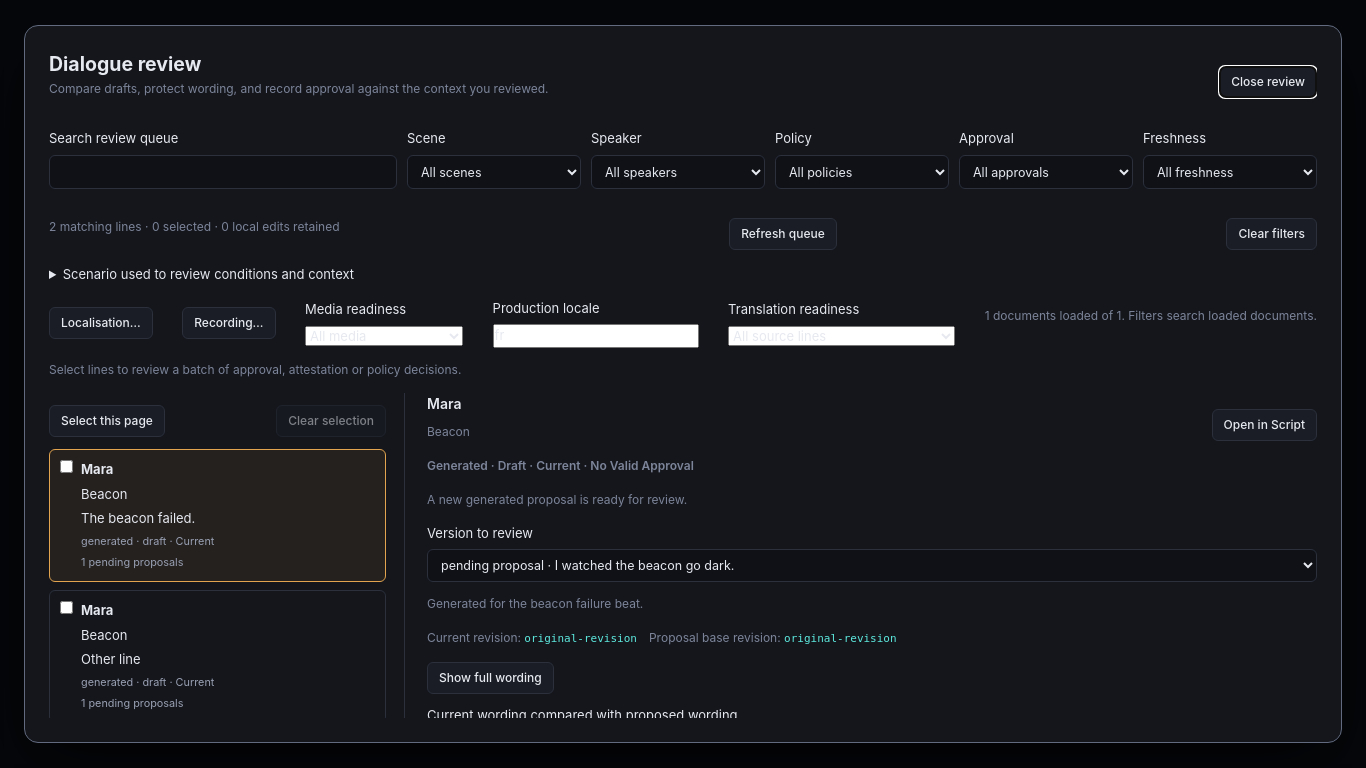
Test: filters actual Review rows by recording readiness and opens the recording workflow
The image size is (1366, 768).
Check: the text "Other line" is shown, box [81,651,141,667]
Select "Missing recording" in the dropdown labelled "Media readiness" at (384, 336), box [305,326,463,346]
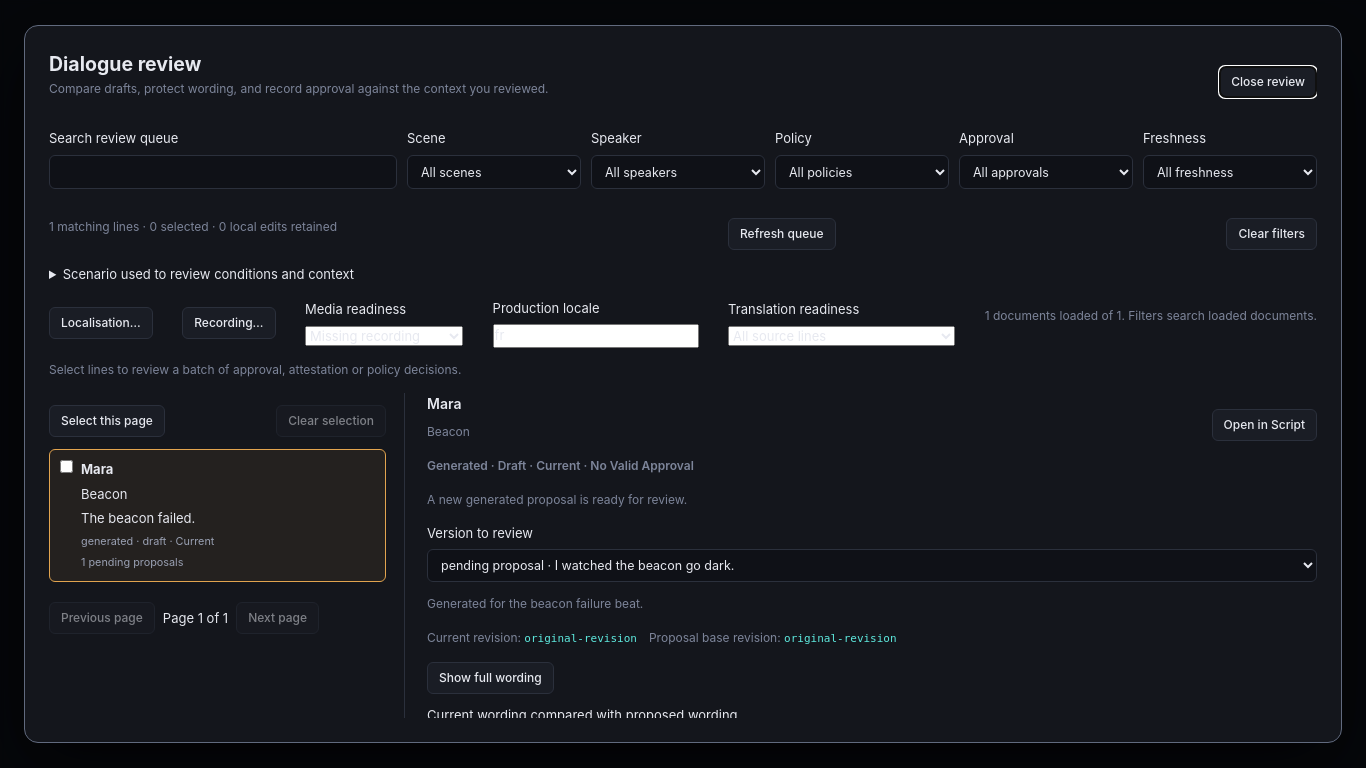
Check: the text "The beacon failed." is shown, box [81,510,195,526]
Check: the button "Other line" is gone
Click the button "Recording…" at (229, 323), box [182,307,276,339]
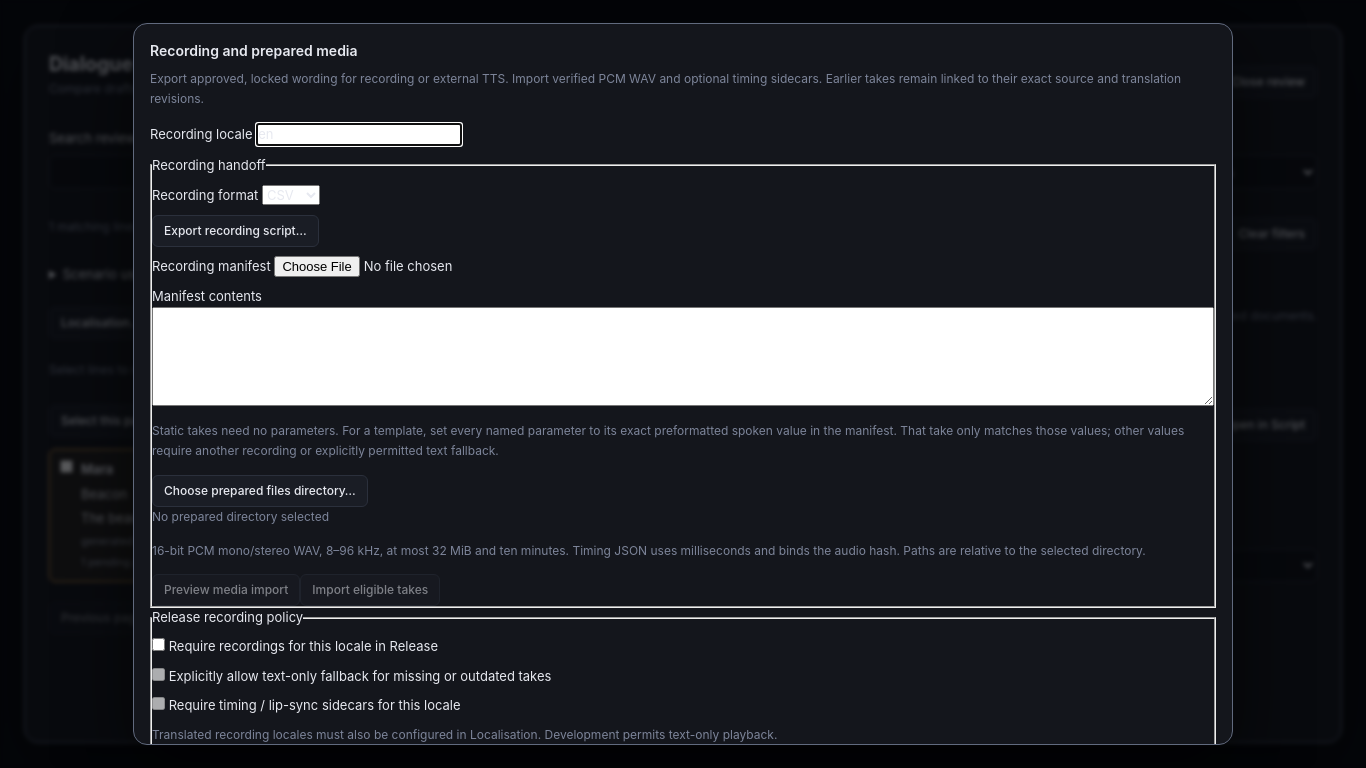
Check: the heading "Recording and prepared media" is shown, box [150,42,358,59]
